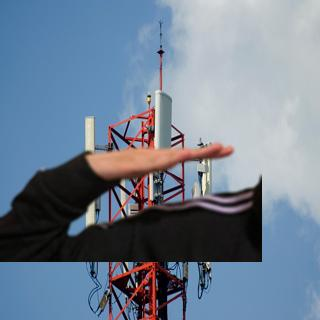Wait: (86, 137, 236, 187)
